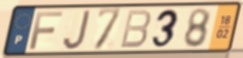3: (150, 7, 184, 50)
7: (94, 7, 125, 53)
8: (182, 7, 211, 49)
B: (118, 8, 153, 50)
F: (28, 10, 65, 51)
J: (61, 9, 92, 52)
